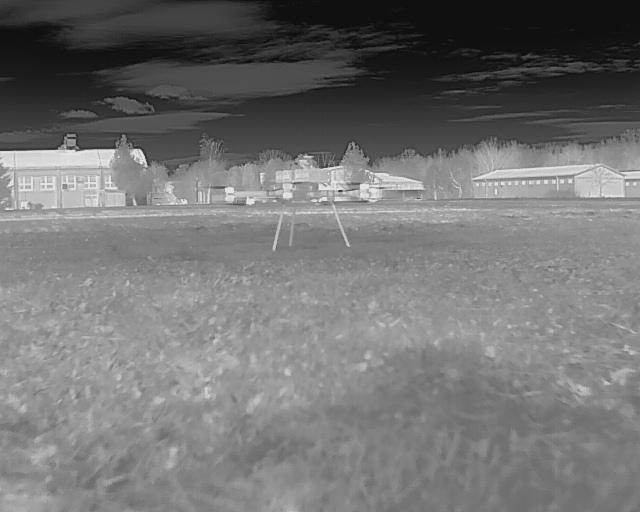drone: (228, 148, 393, 268)
